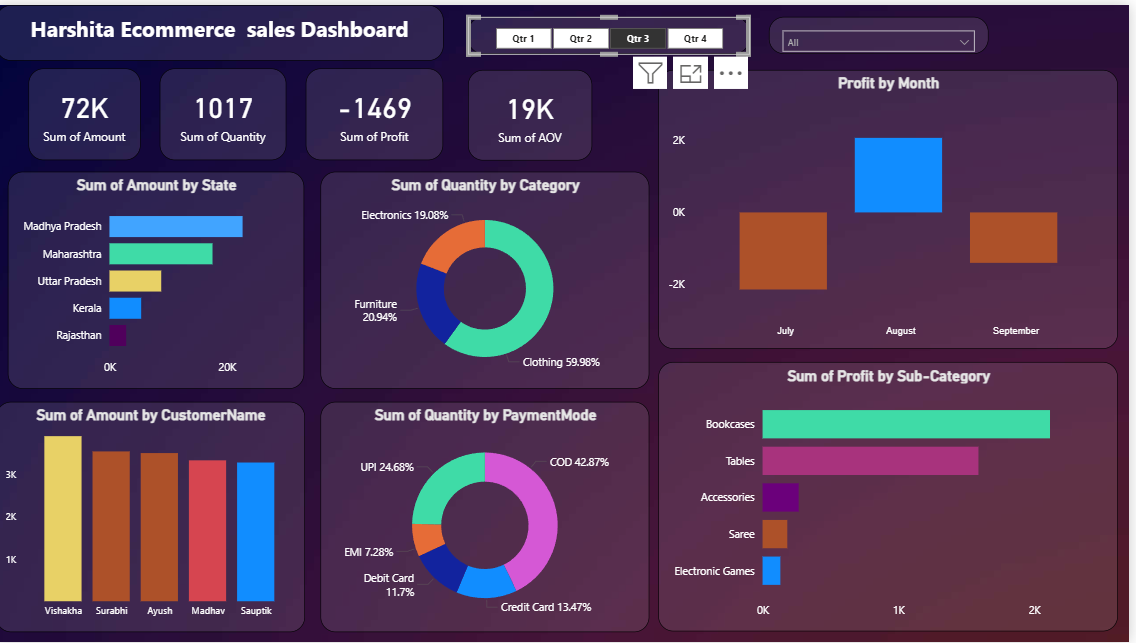

What the dashboard file says about the page in this screenshot:
{"tool":"powerbi","page":{"name":"Page 1","canvas":[1280,720],"ordinal":0},"visuals":[{"type":"textbox","box":[0,0,506,63],"z":0},{"type":"columnChart","title":"Profit by Month","fields":{"Category":["Orders.Order Date.Variation.Date Hierarchy.Month"],"Y":["Details.Profit"]},"box":[748.1,73.1,519.6,315.4],"z":1000},{"type":"clusteredBarChart","fields":{"Category":["Details.Sub-Category"],"Y":["Details.Profit"]},"box":[748.1,403.8,519.6,304.7],"z":2000},{"type":"donutChart","fields":{"Category":["Details.Category"],"Y":["Details.Quantity"]},"box":[367.2,188.9,371.8,245.3],"z":3000},{"type":"donutChart","fields":{"Y":["Details.Quantity"],"Series":["Details.PaymentMode"]},"box":[367.2,447.9,371.8,260.5],"z":4000},{"type":"card","fields":{"Values":["Details.Amount"]},"box":[36.6,71.6,126.5,103.6],"z":5000},{"type":"card","fields":{"Values":["Details.Profit"]},"box":[350.4,71.6,155.4,103.6],"z":6000},{"type":"card","fields":{"Values":["Details.AOV"]},"box":[533.3,73.1,140.2,102.1],"z":7000},{"type":"card","fields":{"Values":["Details.Quantity"]},"box":[184.4,71.6,143.2,103.6],"z":8000},{"type":"clusteredBarChart","fields":{"Category":["Orders.State"],"Y":["Details.Amount"]},"box":[13.7,188.9,335.2,245.3],"z":9000},{"type":"columnChart","fields":{"Category":["Orders.CustomerName"],"Y":["Details.Amount"]},"box":[0,447.9,348.9,260.5],"z":10000},{"type":"slicer","fields":{"Values":["Orders.Order Date.Variation.Date Hierarchy.Quarter"]},"box":[533,14,318,42],"z":11000},{"type":"slicer","fields":{"Values":["Orders.State"]},"box":[873,14,248,42],"z":12000}]}

Visuals, with their boxes in screenshot pixels (x1, y1, x2, y2), scaled from the page's 1280x720 canvas onto the 1136x643 screenshot:
textbox: (0,0,449,56)
"Profit by Month" columnChart: (664,65,1125,347)
clusteredBarChart - Details.Sub-Category x Details.Profit: (664,361,1125,633)
donutChart - Details.Category x Details.Quantity: (326,169,656,388)
donutChart - Details.Quantity x Details.PaymentMode: (326,400,656,633)
card - Details.Amount: (32,64,145,156)
card - Details.Profit: (311,64,449,156)
card - Details.AOV: (473,65,598,156)
card - Details.Quantity: (164,64,291,156)
clusteredBarChart - Orders.State x Details.Amount: (12,169,310,388)
columnChart - Orders.CustomerName x Details.Amount: (0,400,310,633)
slicer - Orders.Order Date.Variation.Date Hierarchy.Quarter: (473,13,755,50)
slicer - Orders.State: (775,13,995,50)
